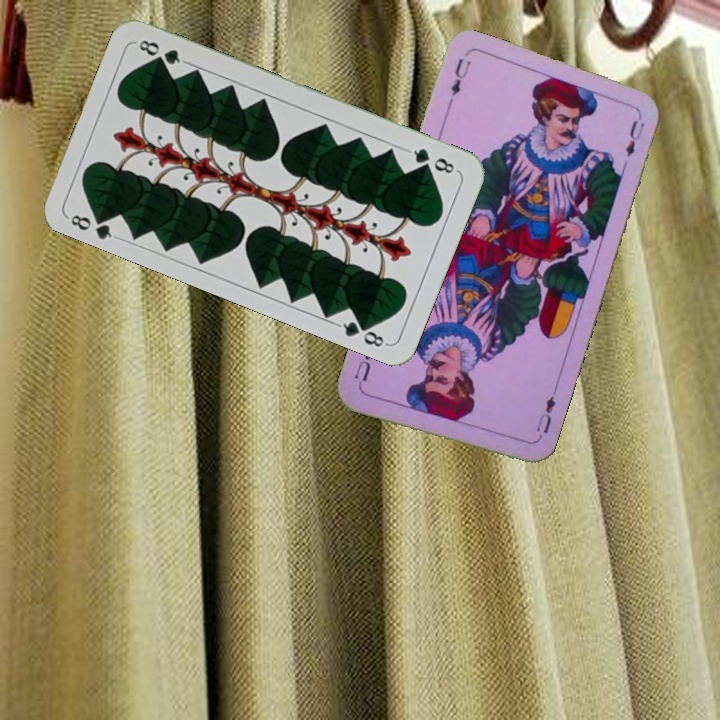EU: (530, 387, 559, 444), (446, 54, 474, 98)
G8: (64, 208, 120, 242), (403, 144, 460, 176)
